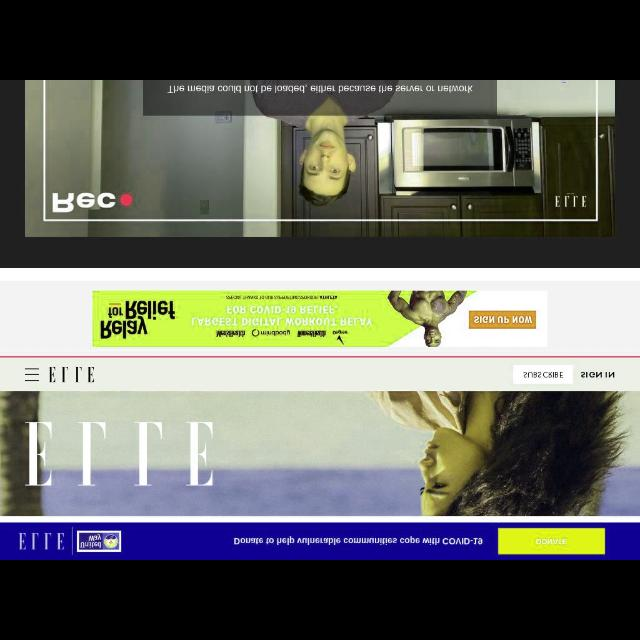icon: (24, 366, 40, 382)
iframe: (93, 293, 547, 347)
image: (1, 80, 638, 268), (1, 392, 639, 516), (16, 530, 66, 552), (78, 532, 122, 552), (47, 366, 95, 384)
text: (166, 83, 474, 95), (234, 536, 484, 546), (522, 370, 564, 378), (536, 538, 566, 546), (580, 372, 614, 378)
textbutton: (498, 529, 604, 555), (514, 366, 572, 384)
toolbar: (1, 356, 639, 389)
